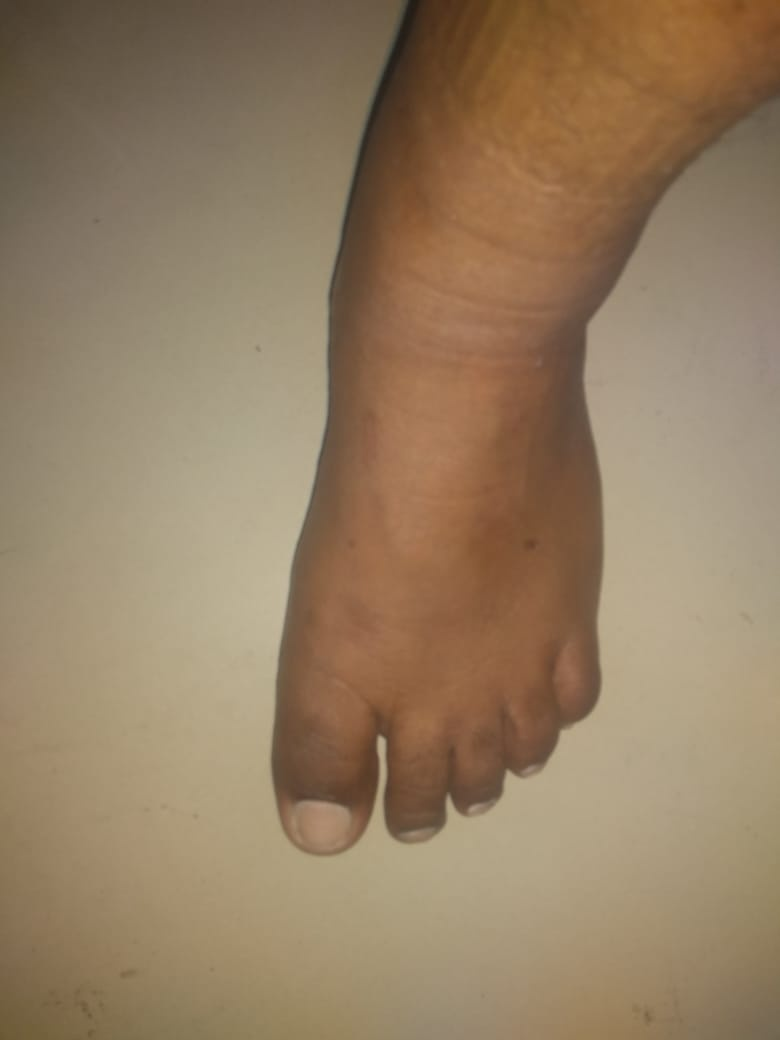feet: (229, 144, 617, 861)
